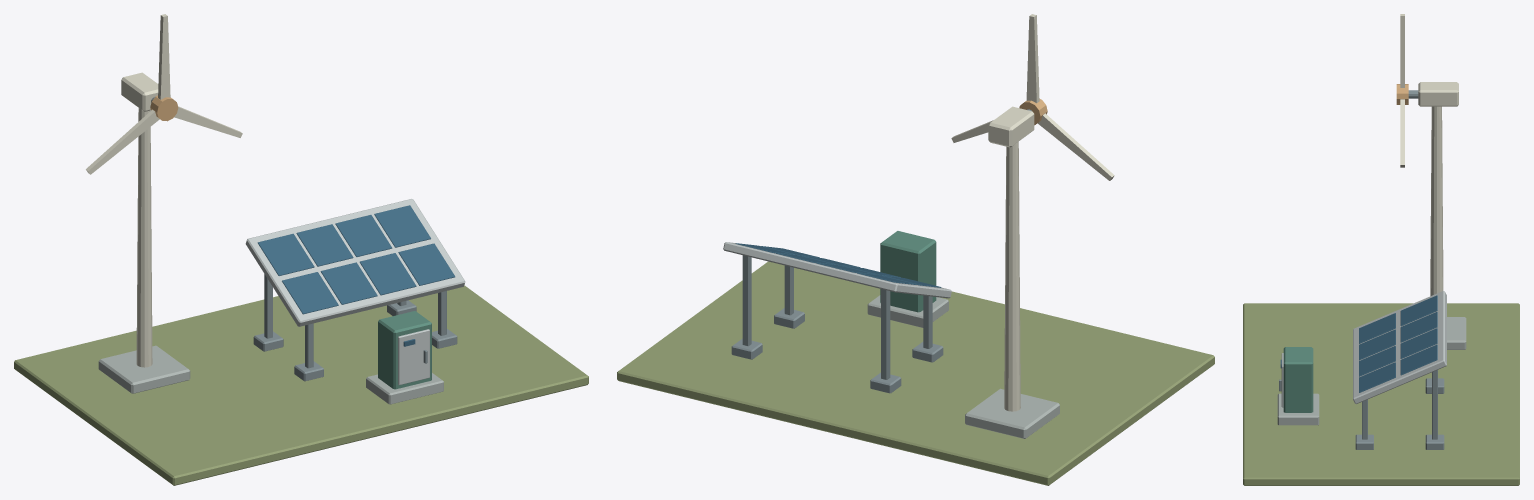
The picture shows the model from 3 angles, left to right: view 1: azimuth 30°, elevation 25°; view 2: azimuth 150°, elevation 25°; view 3: azimuth 270°, elevation 25°; orthographic projection. The views are drawn at different scales.
Visible parts, largest first — view 1: Stator_Runtime, Rotor_Runtime; view 2: Stator_Runtime, Rotor_Runtime; view 3: Stator_Runtime, Rotor_Runtime.
Part boxes in pixels (x1,y1,x2,y2): Stator_Runtime: (14, 72, 588, 485); Rotor_Runtime: (86, 14, 242, 174); Stator_Runtime: (617, 106, 1214, 485); Rotor_Runtime: (951, 14, 1114, 180); Stator_Runtime: (1243, 82, 1519, 485); Rotor_Runtime: (1396, 14, 1408, 167).
Size of the model in its own units: 4.5 by 3.96 by 3.
